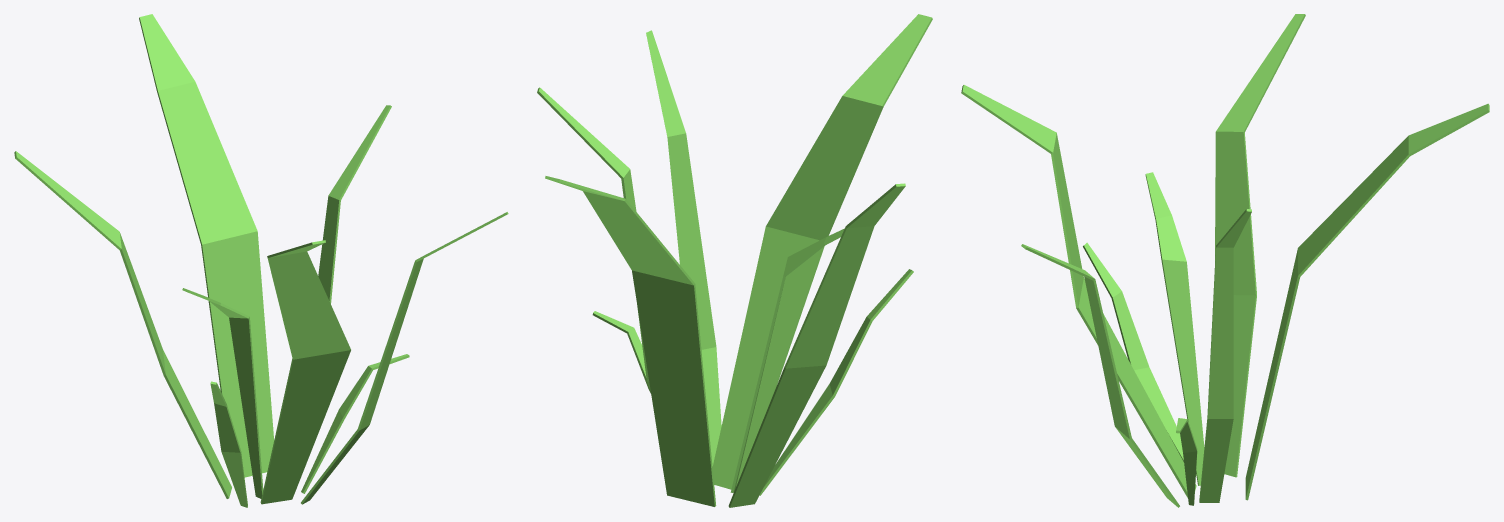
Rendered from Grass_2.fbx.
The picture shows the model from 3 angles, left to right: view 1: azimuth 30°, elevation 25°; view 2: azimuth 150°, elevation 25°; view 3: azimuth 270°, elevation 25°; orthographic projection. The views are drawn at different scales.
Parts seen in each view (by area): view 1: Grass_2; view 2: Grass_2; view 3: Grass_2.
Boxes of the visible parts, box(x1,y1,x2,y2) form: Grass_2: box(14, 14, 508, 507); Grass_2: box(537, 14, 932, 507); Grass_2: box(961, 14, 1489, 507).
Bounding box in the file's own units: 25.47 × 25.46 × 30.94.
